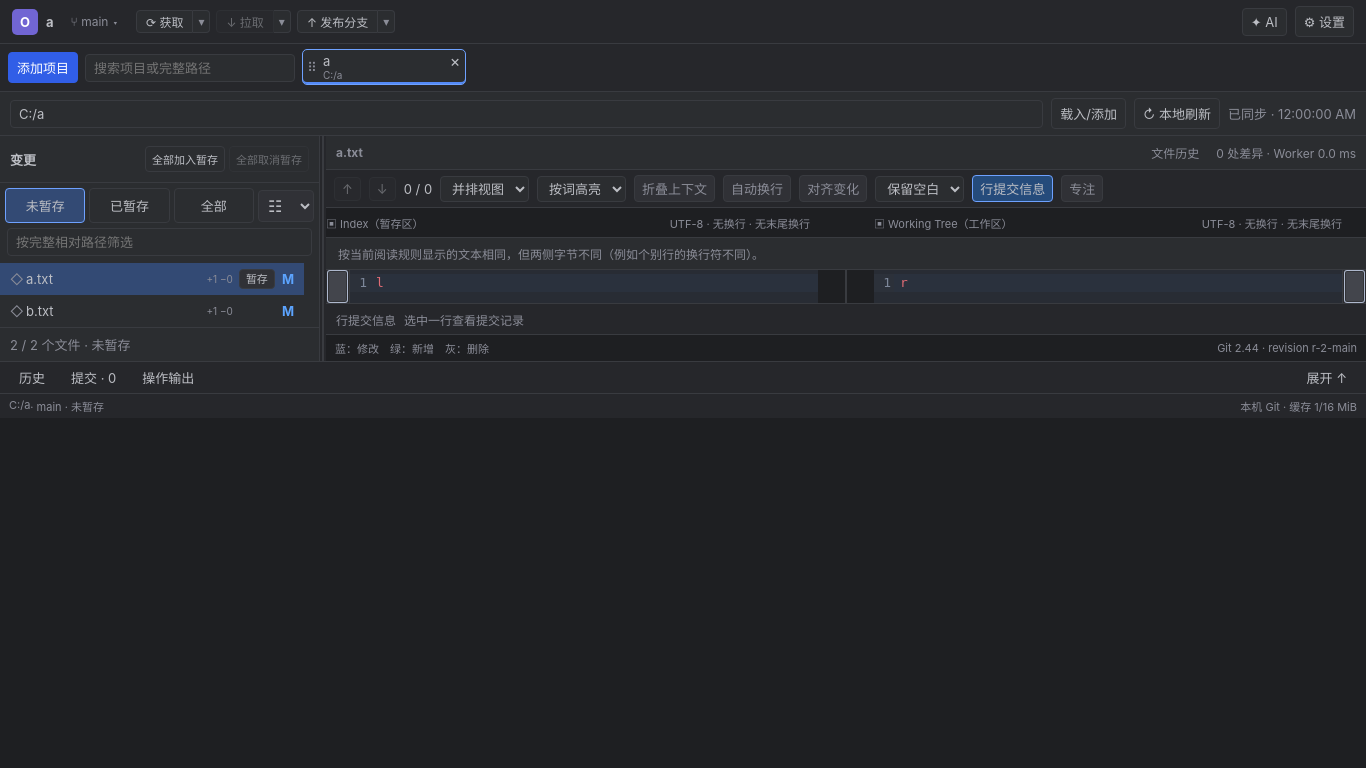
branch popover (B10) › history branch menu: 取消 after Git refuses the switch
Click the tab "历史" at (32, 378), box [8,364,56,390]
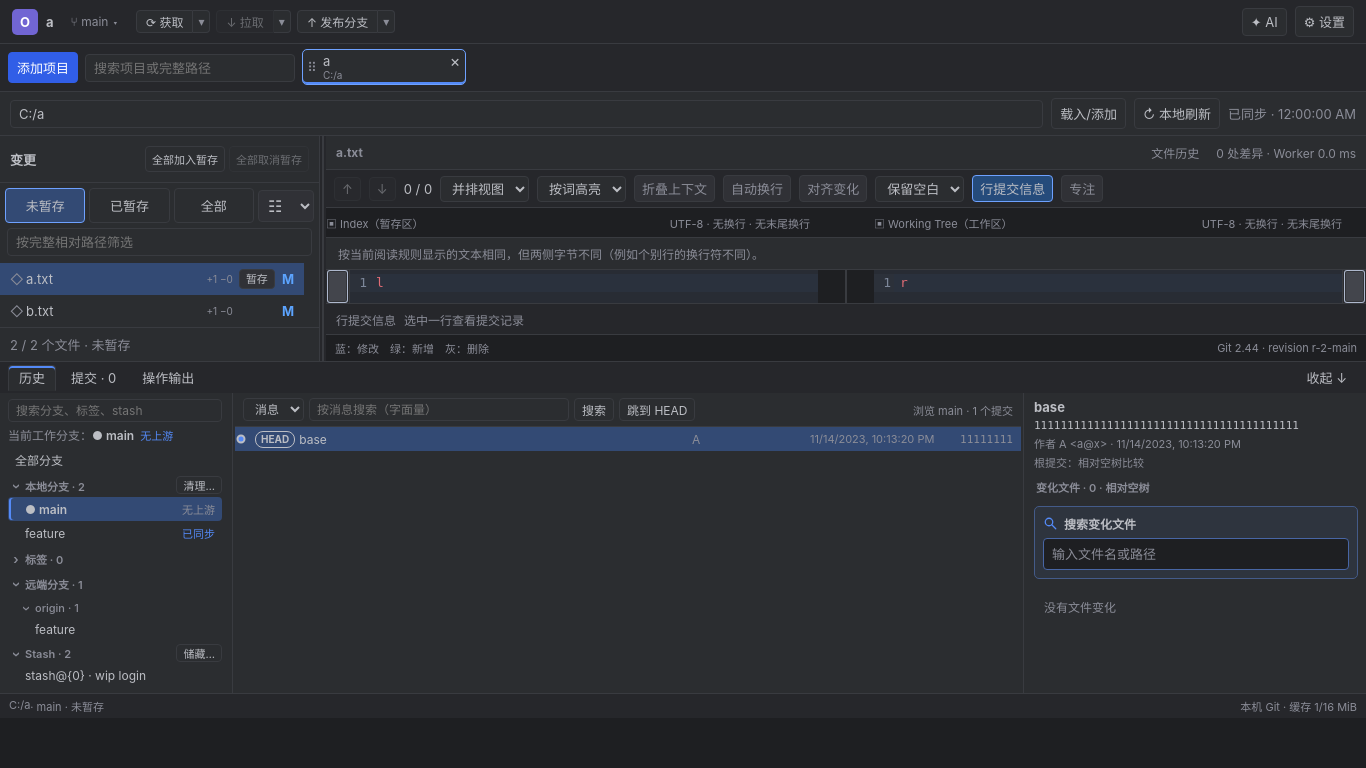
Right-click the option with class "log-branch" showing "feature 已同步" at (115, 533), box [8,521,222,545]
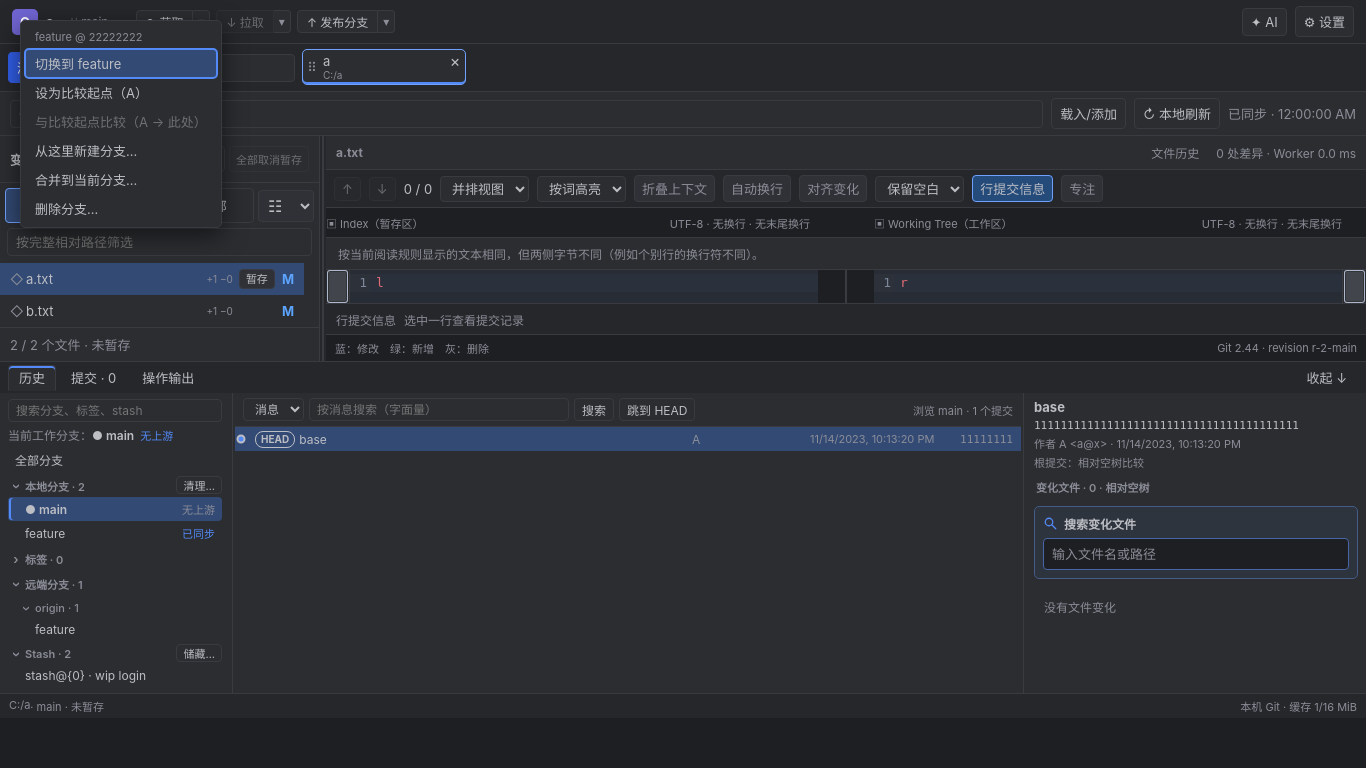
Check: the menu item "切换到 feature" is shown
Click the menu item "切换到 feature" at (121, 64), box [25,49,217,78]
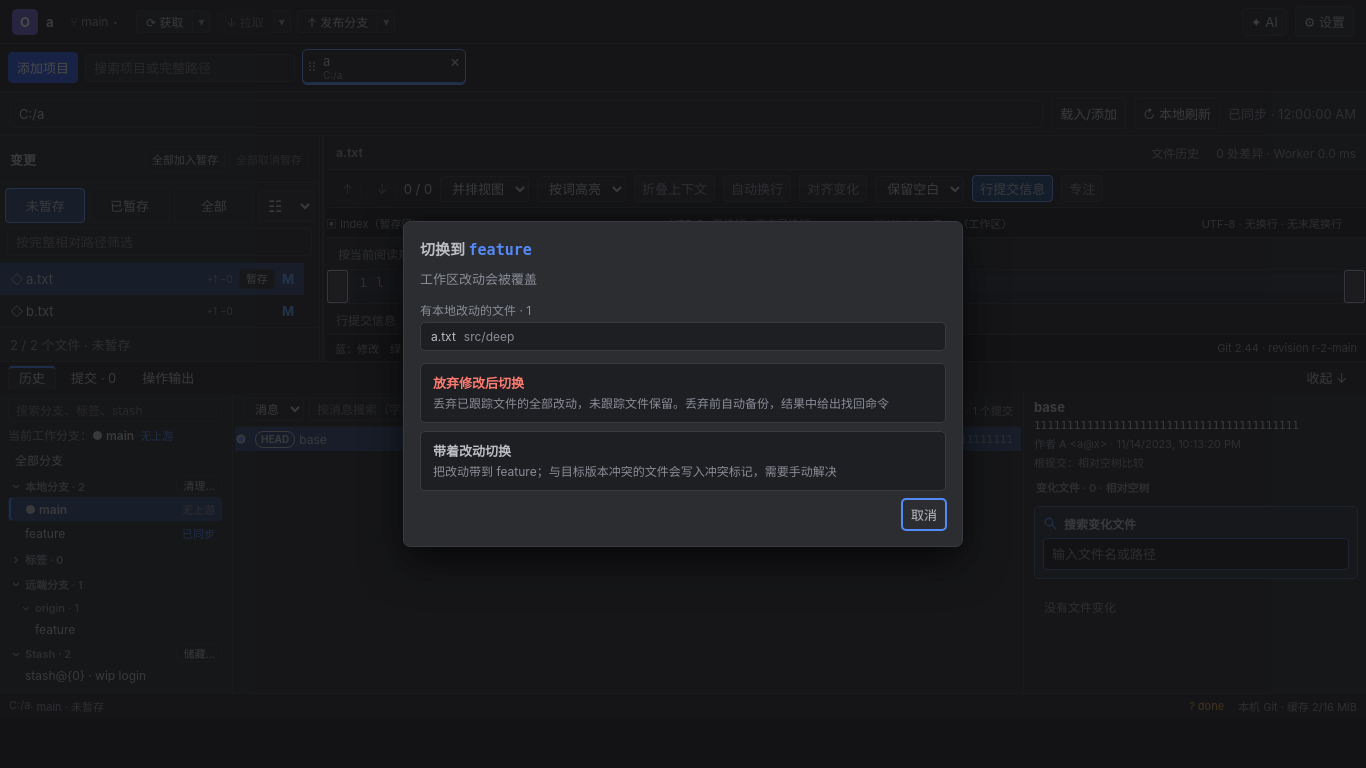
Check: the heading "切换到 feature" is shown, box [420,240,532,259]
Check: the menu with class "log-menu" is gone
Check: the text with class "switch-file-name" reads "a.txt", box [431,329,456,344]
Click the button "取消" at (924, 515), box [902,499,946,530]
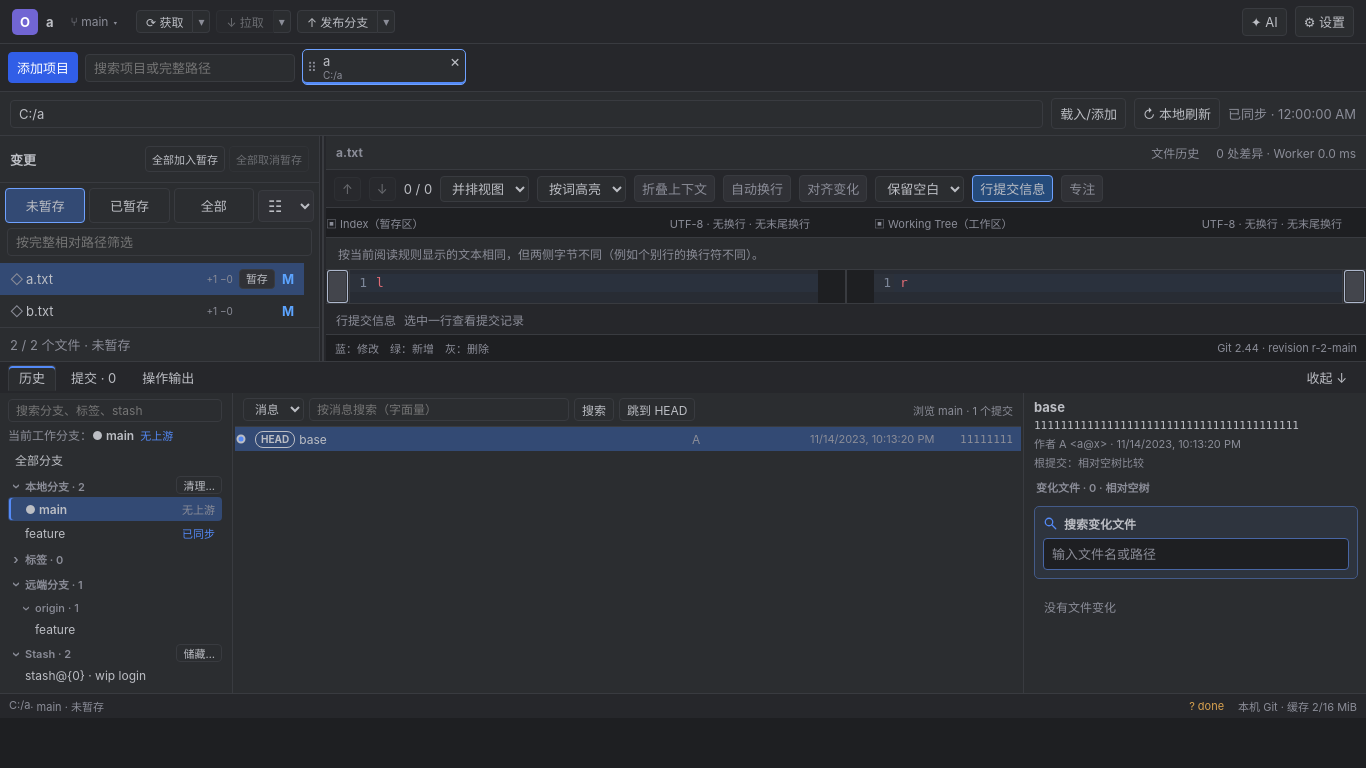
Check: the dialog with class "switch-dialog" is gone
